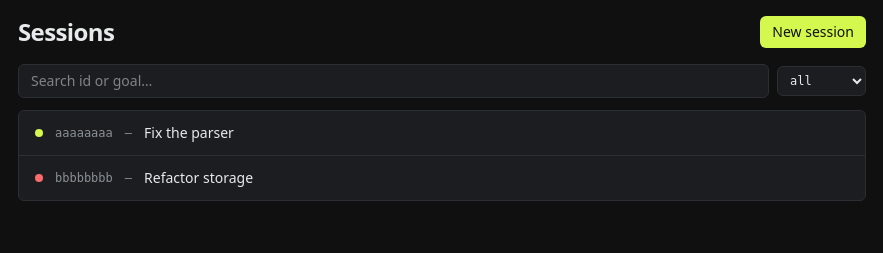
SessionsPage filtering › shows a no-match state that is not the never-had-any empty state
Check: the element with test id "sessions-list" is shown, box [18,110,866,201]
Type "zzz" into the search field with test id "sessions-search" at (394, 81), box [18,64,769,98]
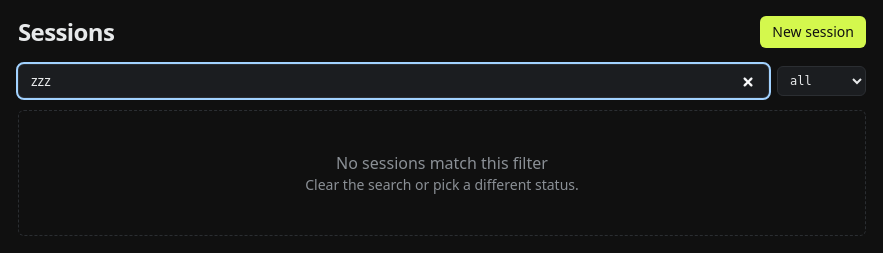
Check: the element with test id "sessions-no-match" is shown, box [18,110,866,236]
